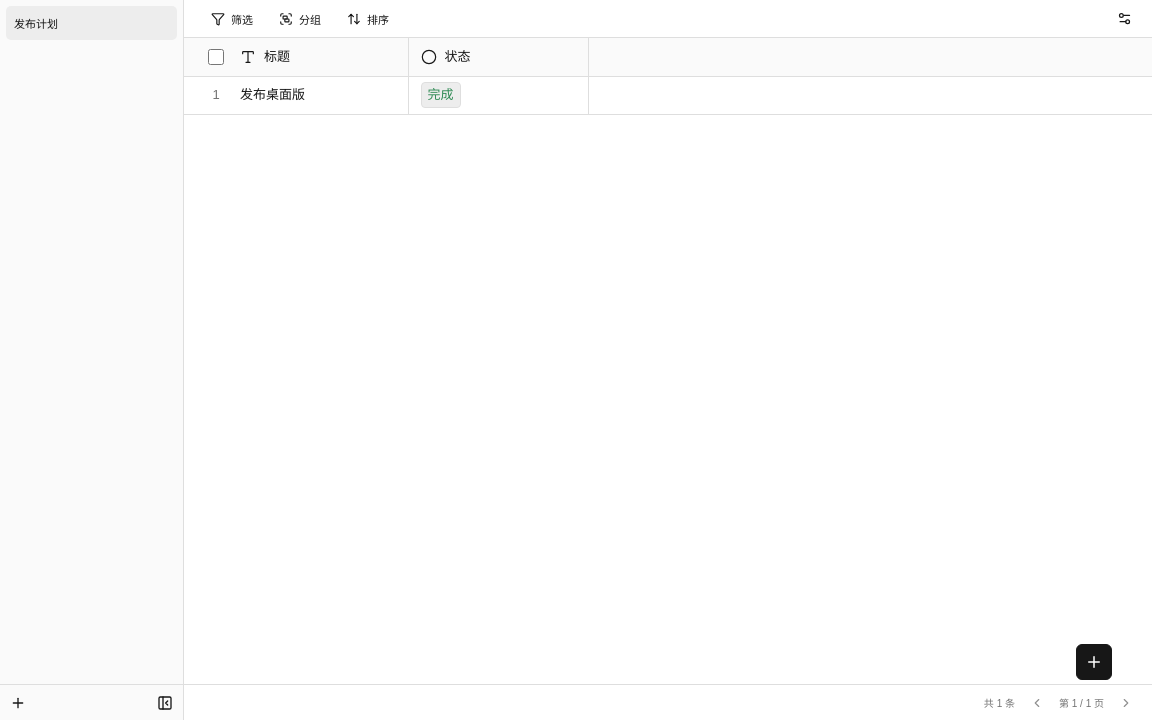
TaskWorkbenchPage › opens an independent filter popover and saves complete conditions
Check: the table named "发布计划" is shown, box x1=184 y1=38 x2=1151 y2=115
Click the button "筛选": [232, 18] box x1=200 y1=4 x2=264 y2=32
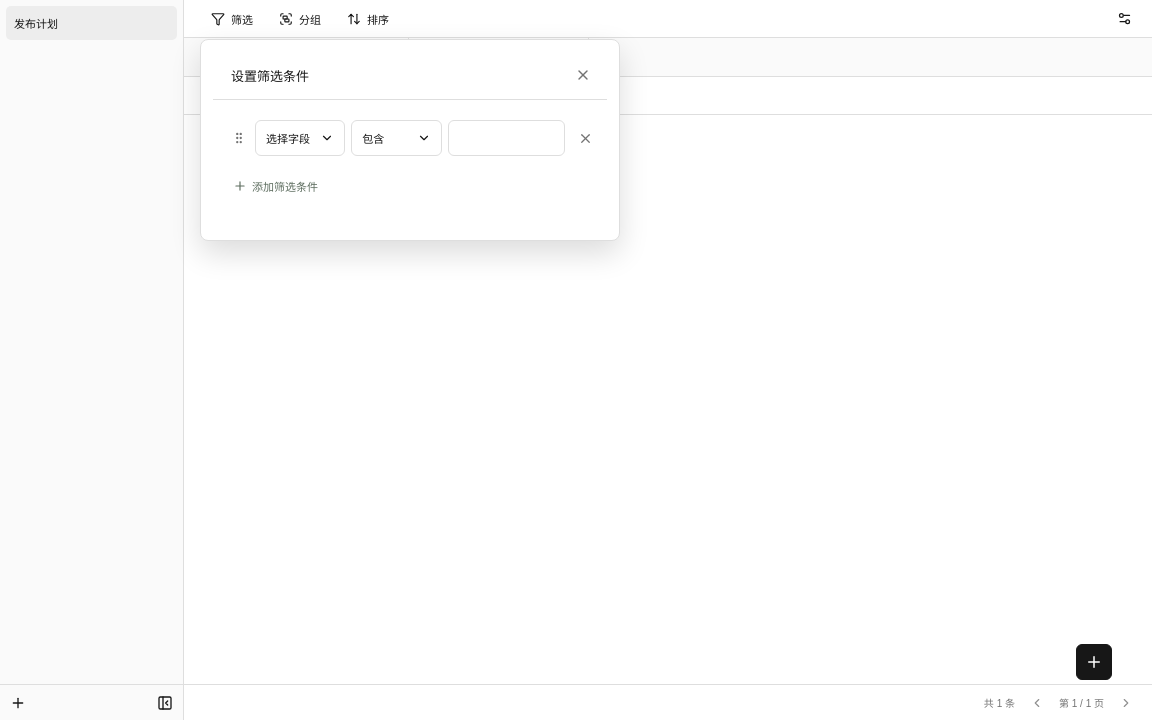
Replace the text in the dropdown named "筛选字段 1" with "title": [300, 138] box x1=255 y1=120 x2=345 y2=156
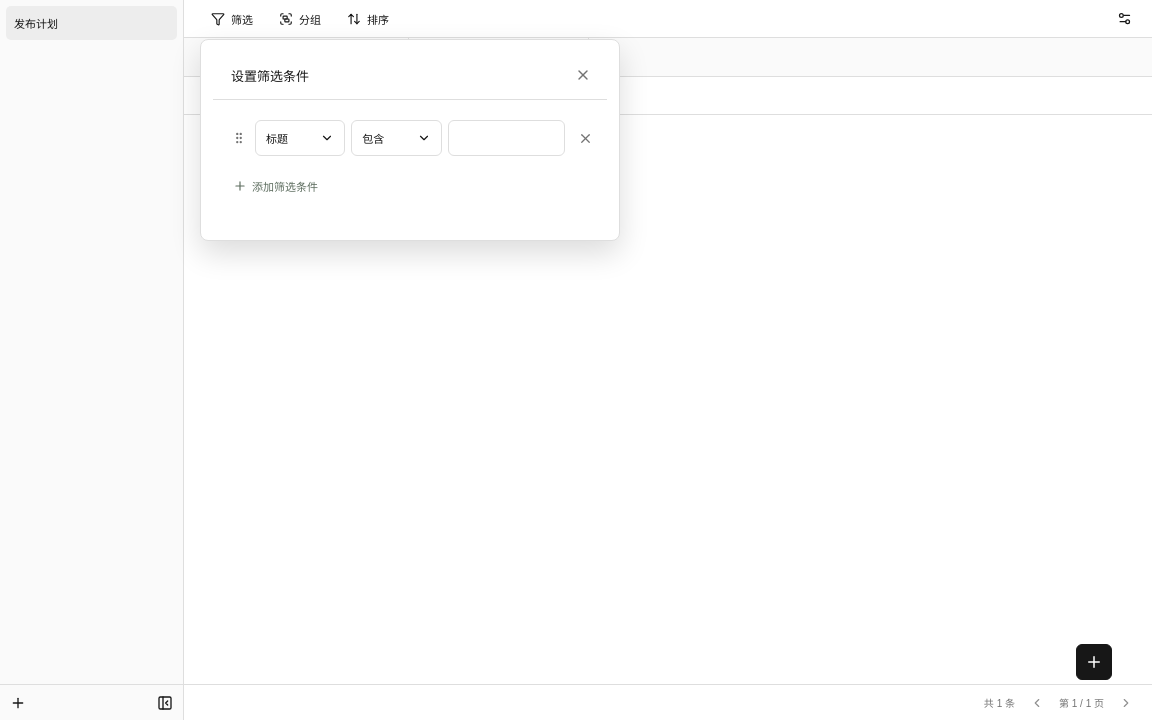
In the field named "筛选值 1": [506, 138] box x1=448 y1=120 x2=565 y2=156, type "发布"
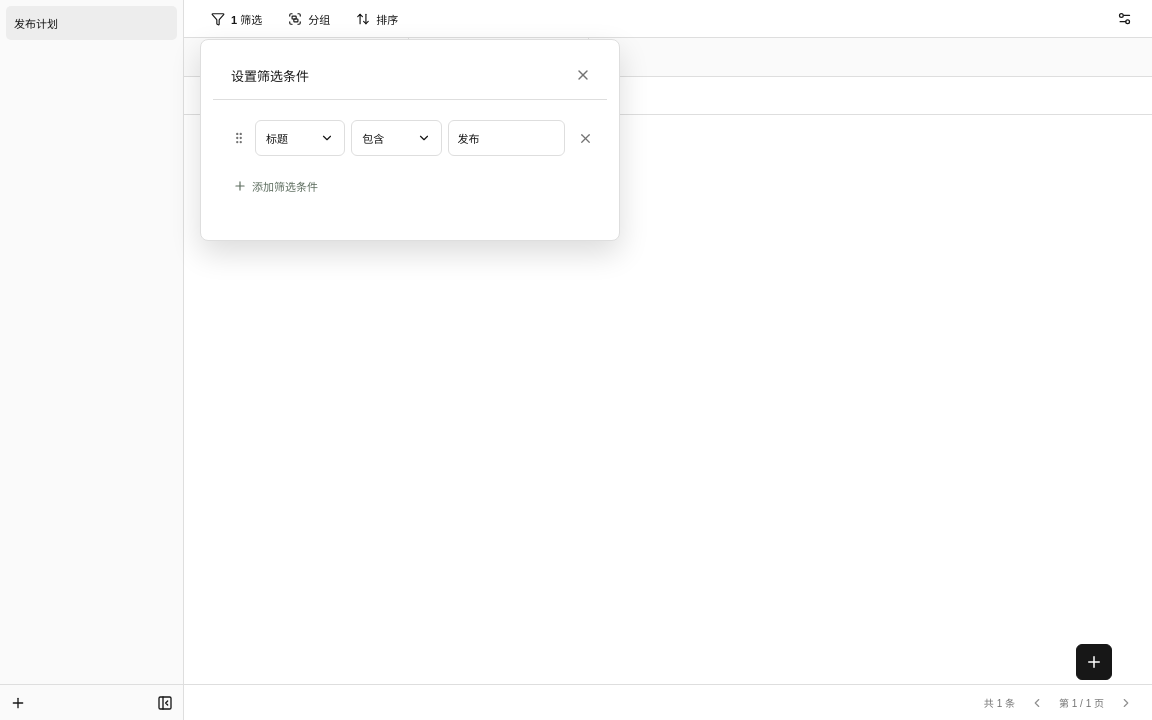
Check: the button "1 筛选" is shown, box x1=200 y1=4 x2=273 y2=32
